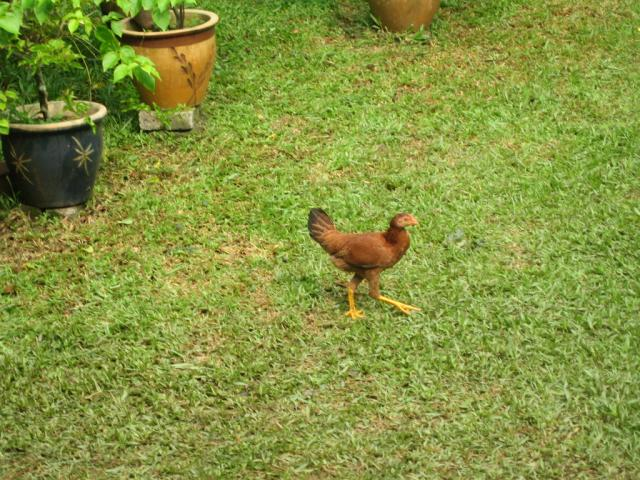Bird: (308, 211, 420, 320)
